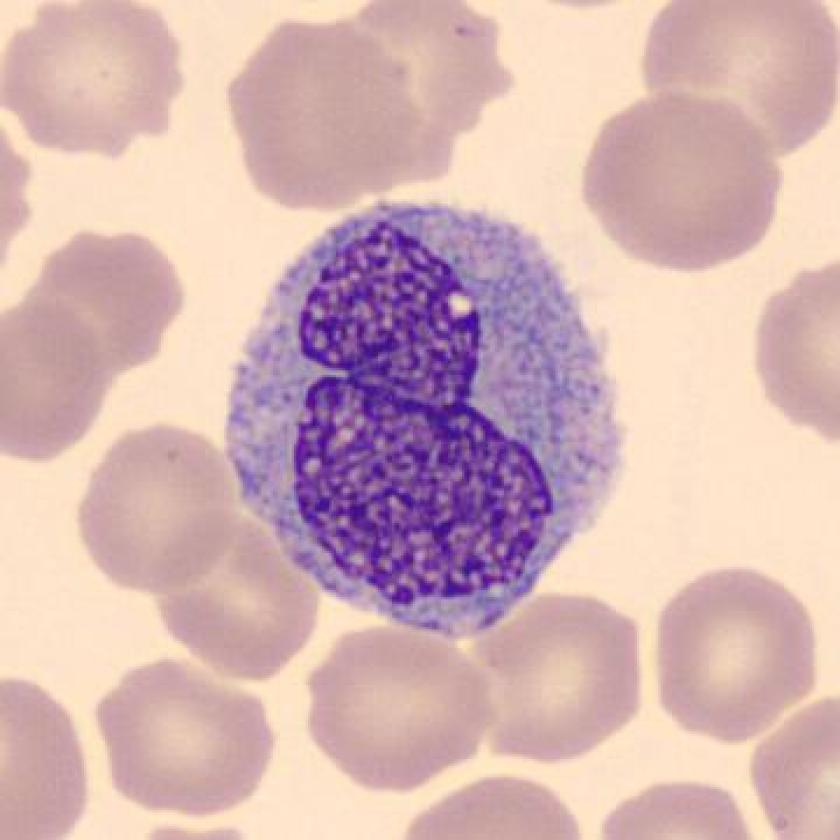monocyte: (202, 193, 666, 642)
